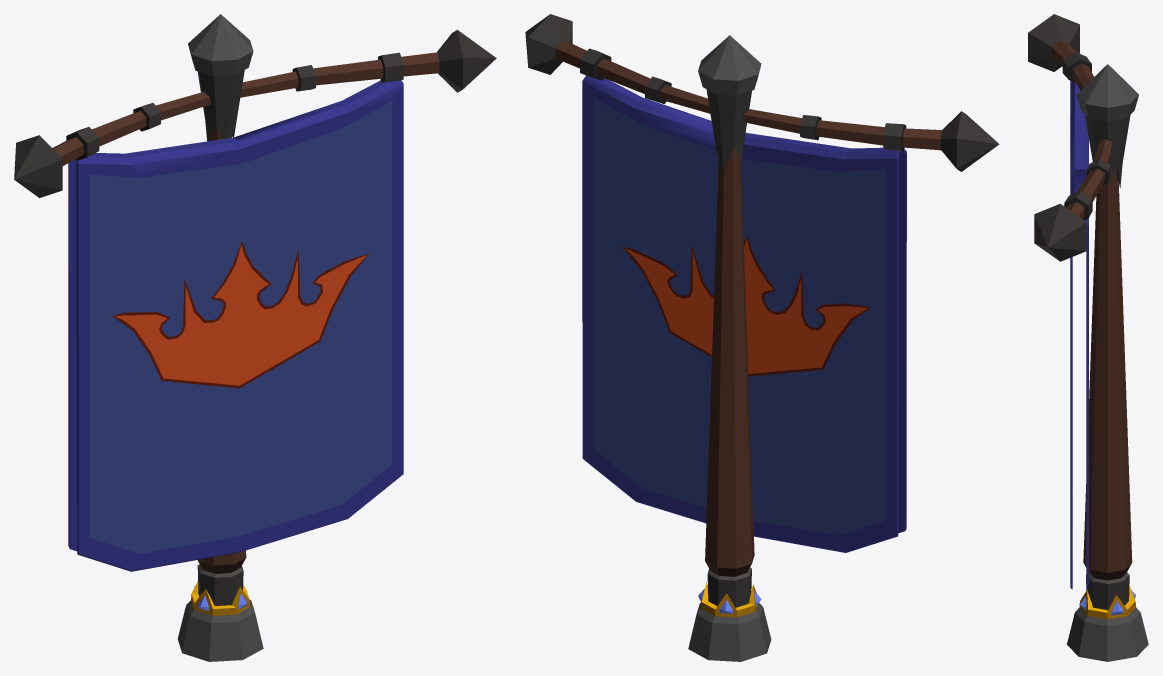
The model's file is FlagPole_02.glb.
3 renders of one model, left to right at view 1: azimuth 30°, elevation 25°; view 2: azimuth 150°, elevation 25°; view 3: azimuth 270°, elevation 25°, orthographic. The views are drawn at different scales.
Parts seen in each view (by area): view 1: FlagPole_02; view 2: FlagPole_02; view 3: FlagPole_02.
Part boxes in pixels (<box>): FlagPole_02: <box>14,14,496,661</box>; FlagPole_02: <box>525,14,999,661</box>; FlagPole_02: <box>1028,14,1148,661</box>.
Size of what is drawn, in the model's own units: 1.82 by 2.26 by 0.4251.
Materials: 1 (1 with a texture image).
